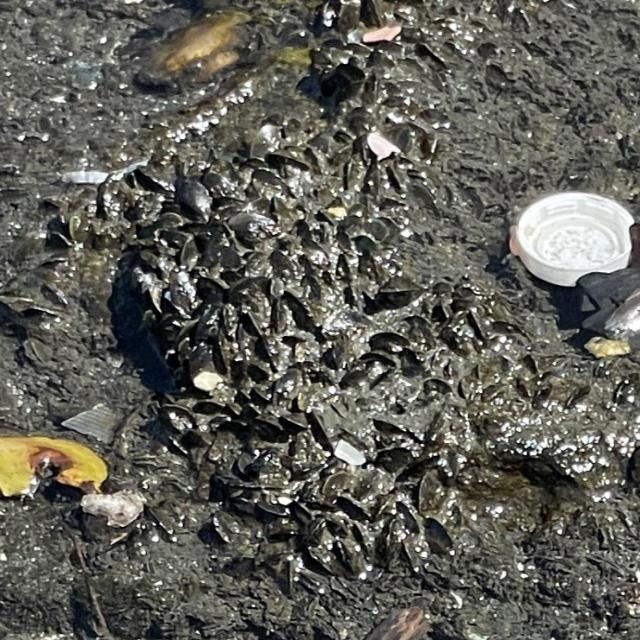plastic_waste: (514, 190, 638, 291)
